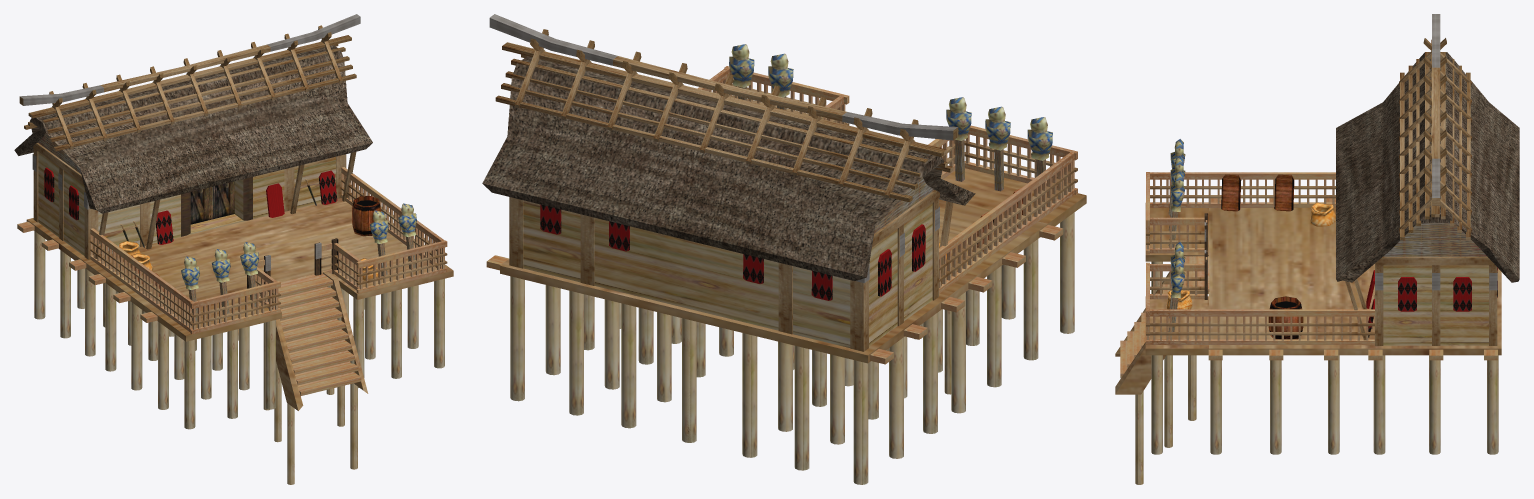
The model's file is yayoi_barracks.dae.
3 renders of one model, left to right at view 1: azimuth 30°, elevation 25°; view 2: azimuth 150°, elevation 25°; view 3: azimuth 270°, elevation 25°, orthographic. The views are drawn at different scales.
Visible parts, largest first — view 1: barracks; view 2: barracks; view 3: barracks.
Part boxes in pixels (left/top/right/bottom): barracks: left=14, top=14, right=453, bottom=484; barracks: left=482, top=14, right=1086, bottom=484; barracks: left=1115, top=14, right=1519, bottom=484.
Bounding box in the file's own units: 23.72 × 22.04 × 21.65.
Materials: 1 (1 with a texture image).
